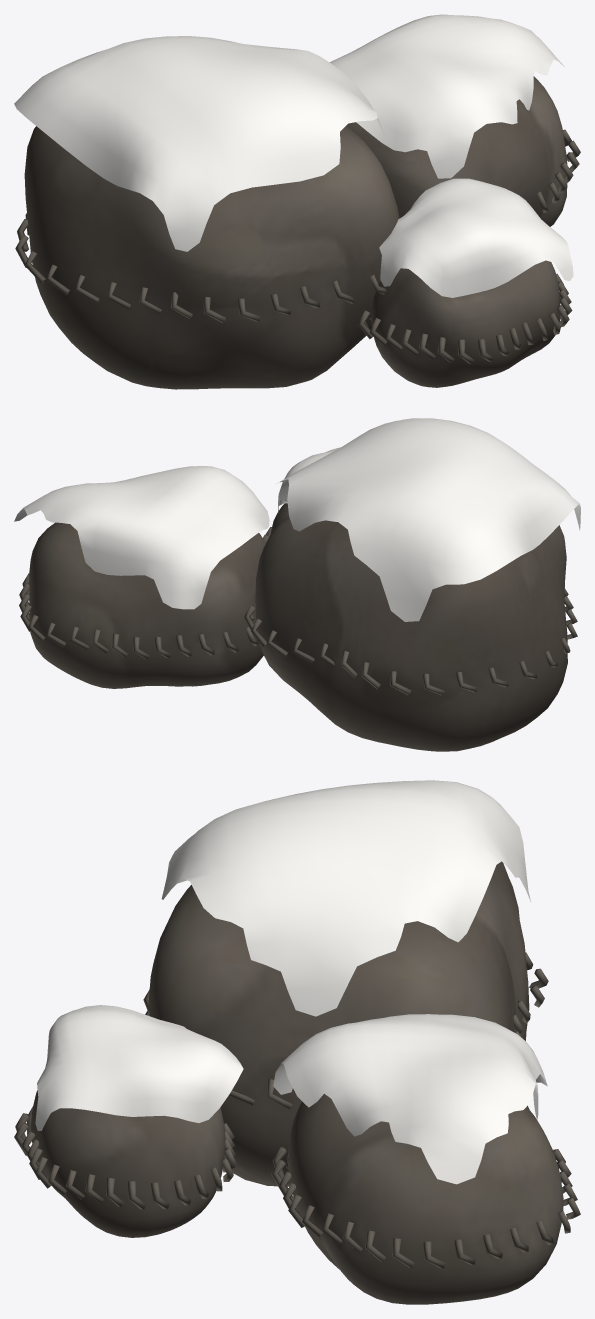
Rendered from rock_c.glb.
The picture shows the model from 3 angles, top to bottom: view 1: azimuth 30°, elevation 25°; view 2: azimuth 150°, elevation 25°; view 3: azimuth 270°, elevation 25°; orthographic projection. The views are drawn at different scales.
Parts seen in each view (by area): view 1: rock_c_felt, rock_c_snow, rock_c_stitch; view 2: rock_c_felt, rock_c_snow, rock_c_stitch; view 3: rock_c_snow, rock_c_felt, rock_c_stitch.
Boxes of the visible parts, x1,y1,x2,y2 form: rock_c_felt: (24,76,567,389); rock_c_snow: (14,14,573,297); rock_c_stitch: (15,129,580,364); rock_c_felt: (29,503,567,751); rock_c_snow: (14,418,580,621); rock_c_stitch: (19,527,577,695); rock_c_snow: (35,780,547,1184); rock_c_felt: (30,861,563,1304); rock_c_stitch: (14,952,580,1268).
Bounding box in the file's own units: 1.1 × 0.5707 × 0.8441.
3 materials, 1 textured.
